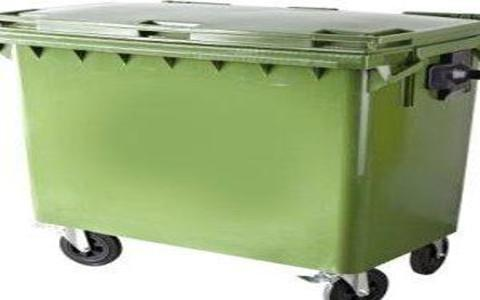Proper garbage: (1, 1, 478, 299)
